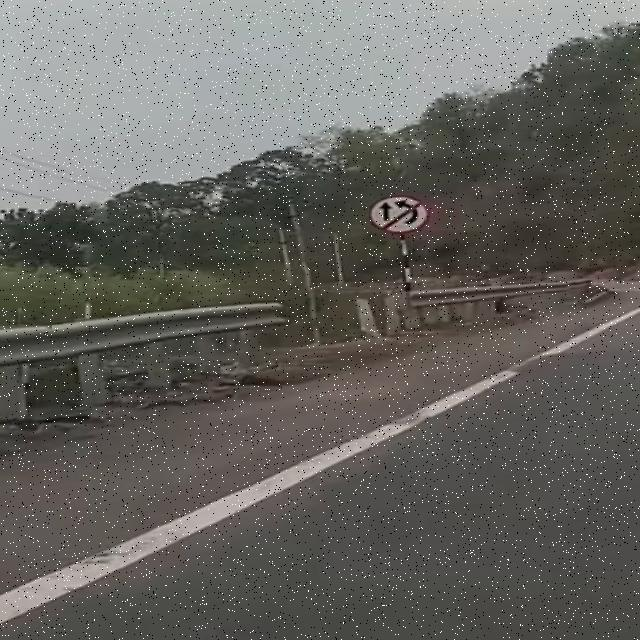No_overtaking: (365, 192, 426, 234)
